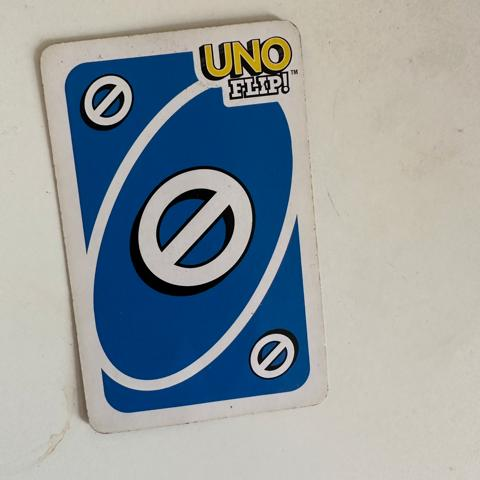lblueskip-20: (54, 58, 146, 145)
